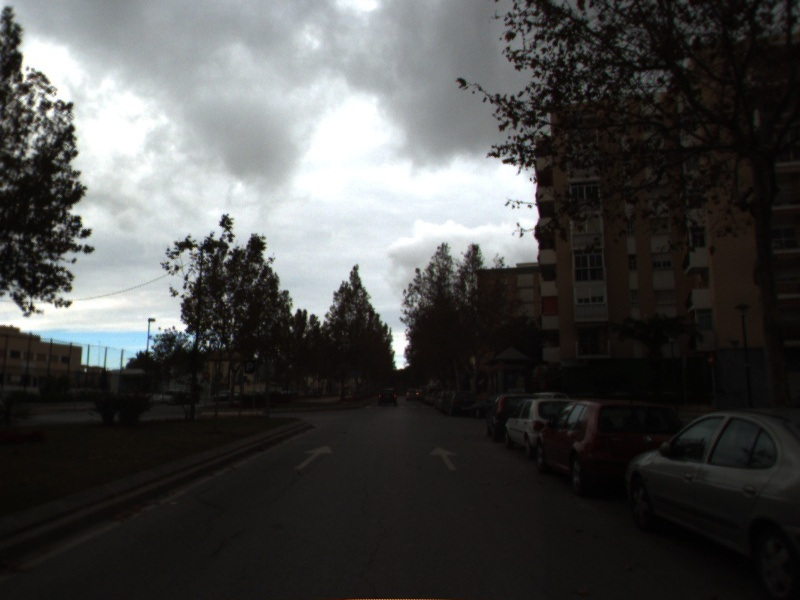STRAIGHT: (291, 442, 336, 472), (427, 444, 461, 473)
